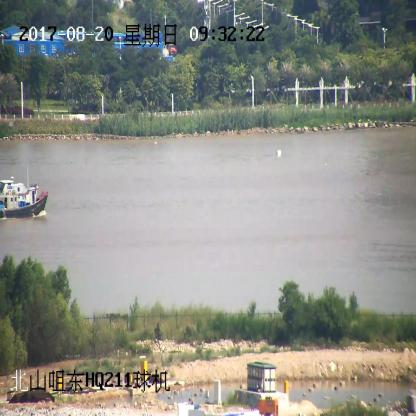Fishing Boat: (0, 174, 47, 218)
